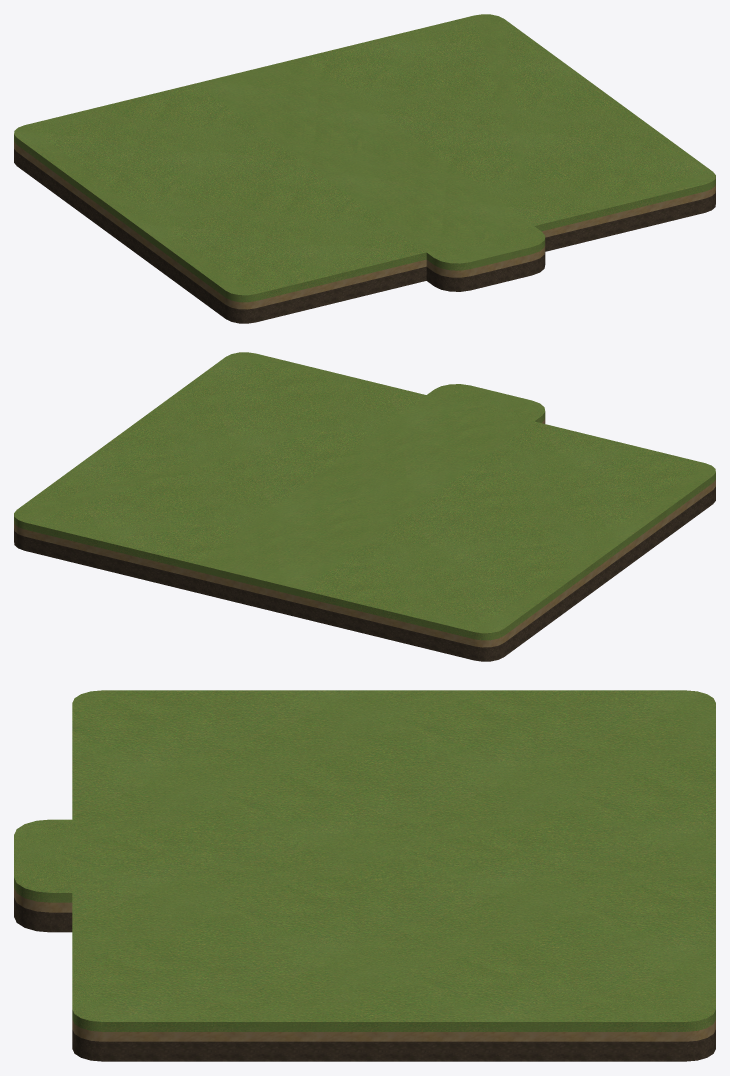
File: home_ground.fbx
3 renders of one model, top to bottom at view 1: azimuth 30°, elevation 25°; view 2: azimuth 150°, elevation 25°; view 3: azimuth 270°, elevation 25°, orthographic. The views are drawn at different scales.
Visible parts, largest first — view 1: ground_home; view 2: ground_home; view 3: ground_home.
Boxes of the visible parts, x1=… form: ground_home: x1=14, y1=14, x2=715, y2=323; ground_home: x1=14, y1=352, x2=715, y2=661; ground_home: x1=14, y1=690, x2=715, y2=1061.
Bounding box in the file's own units: 53.84 × 3 × 48.17.
3 materials, 3 textured.
